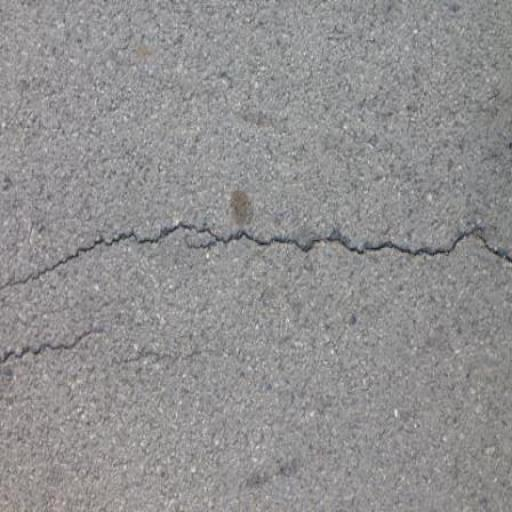spalling: (6, 208, 511, 306), (10, 318, 105, 371)
